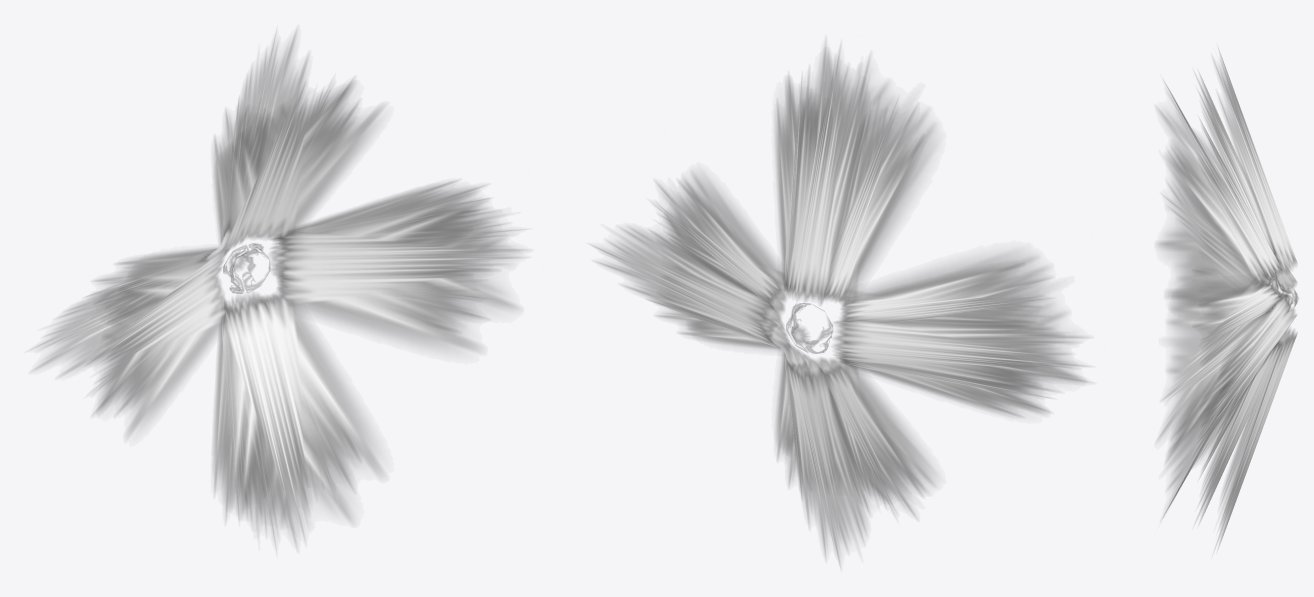
Rendered from si_eos_6110.glb.
3 views of the same model, side by side, from view 1: azimuth 30°, elevation 25°; view 2: azimuth 150°, elevation 25°; view 3: azimuth 270°, elevation 25° (orthographic). The views are drawn at different scales.
Visible parts, largest first — view 1: layer_01_si_est_0500, layer_02_si_est_0801; view 2: layer_01_si_est_0500; view 3: layer_01_si_est_0500, layer_02_si_est_0801.
Part boxes in pixels (x1,y1,x2,y2): layer_01_si_est_0500: (31,31,524,546); layer_02_si_est_0801: (223,243,270,293); layer_01_si_est_0500: (593,44,1087,563); layer_01_si_est_0500: (1158,51,1296,545); layer_02_si_est_0801: (1269,272,1293,314).
Bounding box in the file's own units: 124 × 124 × 33.38.
Materials: 3 (3 with a texture image).
